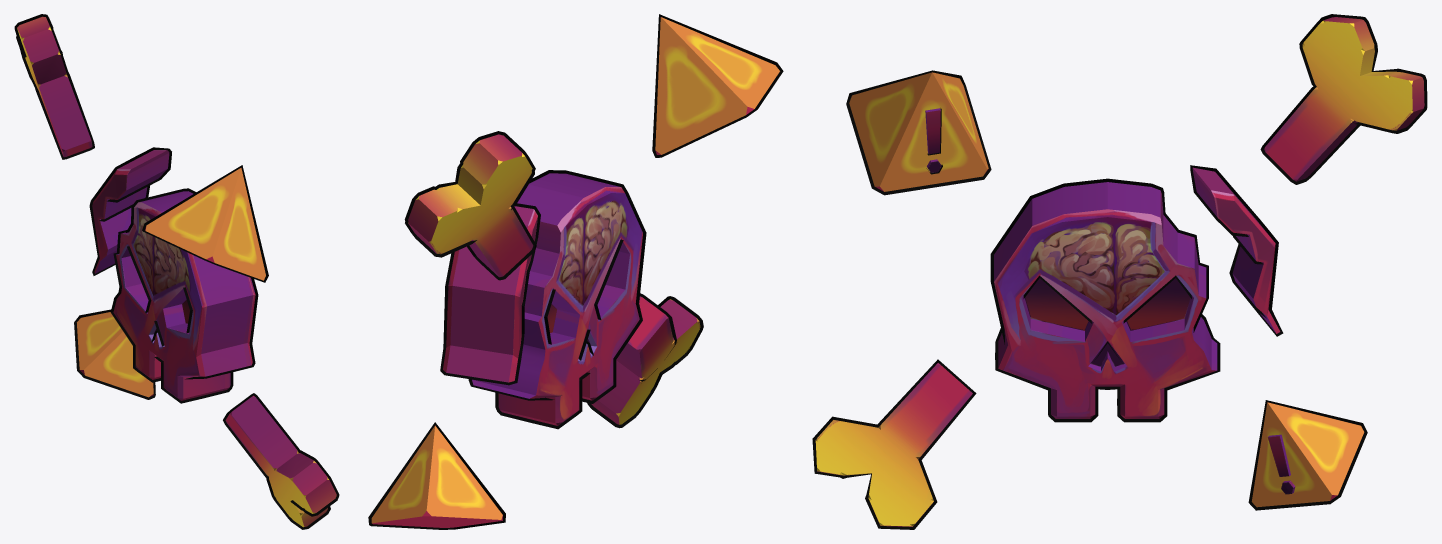
Rendered from skull.fbx.
3 renders of one model, left to right at view 1: azimuth 30°, elevation 25°; view 2: azimuth 150°, elevation 25°; view 3: azimuth 270°, elevation 25°, orthographic. The views are drawn at different scales.
Parts seen in each view (by area): view 1: Skull, Exclamation Triangle.002, Bone Part, Bone Part.001, Skull Broken Part, Exclamation Triangle.004; view 2: Skull, Bone Part.001, Exclamation Triangle.002, Skull Broken Part, Exclamation Triangle.004, Bone Part; view 3: Skull, Bone Part.001, Bone Part, Exclamation Triangle.002, Exclamation Triangle.004, Skull Broken Part, Exclamation Mark.003, Exclamation Mark.005.
Part boxes in pixels (left/top/right/bottom): Skull: left=110, top=188, right=258, bottom=403; Exclamation Triangle.002: left=142, top=165, right=268, bottom=282; Bone Part: left=223, top=393, right=339, bottom=529; Bone Part.001: left=14, top=14, right=94, bottom=159; Skull Broken Part: left=89, top=147, right=171, bottom=275; Exclamation Triangle.004: left=74, top=309, right=155, bottom=399; Skull: left=468, top=170, right=646, bottom=429; Bone Part.001: left=404, top=131, right=536, bottom=280; Exclamation Triangle.002: left=652, top=14, right=783, bottom=157; Skull Broken Part: left=440, top=203, right=540, bottom=385; Exclamation Triangle.004: left=368, top=422, right=505, bottom=529; Bone Part: left=587, top=293, right=703, bottom=428; Skull: left=990, top=178, right=1220, bottom=422; Bone Part.001: left=1260, top=14, right=1427, bottom=184; Bone Part: left=812, top=359, right=976, bottom=529; Exclamation Triangle.002: left=846, top=70, right=991, bottom=195; Exclamation Triangle.004: left=1248, top=400, right=1367, bottom=510; Skull Broken Part: left=1190, top=165, right=1283, bottom=336; Exclamation Mark.003: left=925, top=108, right=942, bottom=174; Exclamation Mark.005: left=1267, top=434, right=1295, bottom=494.
Bounding box in the file's own units: 204 × 457 × 540.
